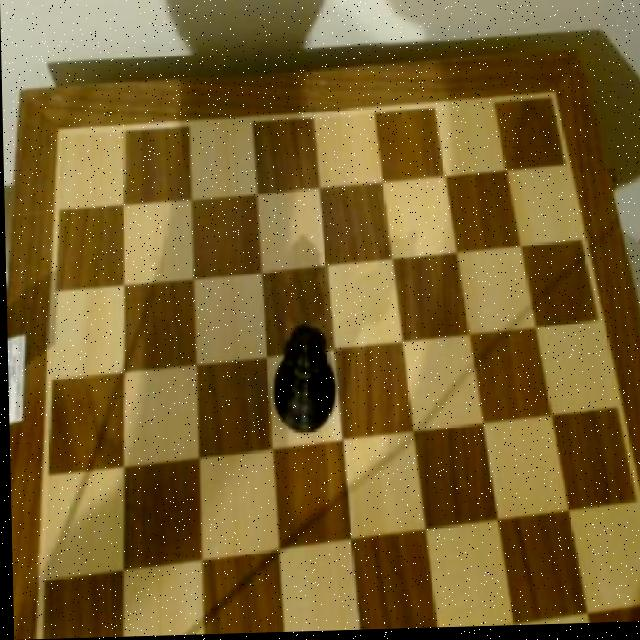black-pawn: (269, 320, 337, 442)
